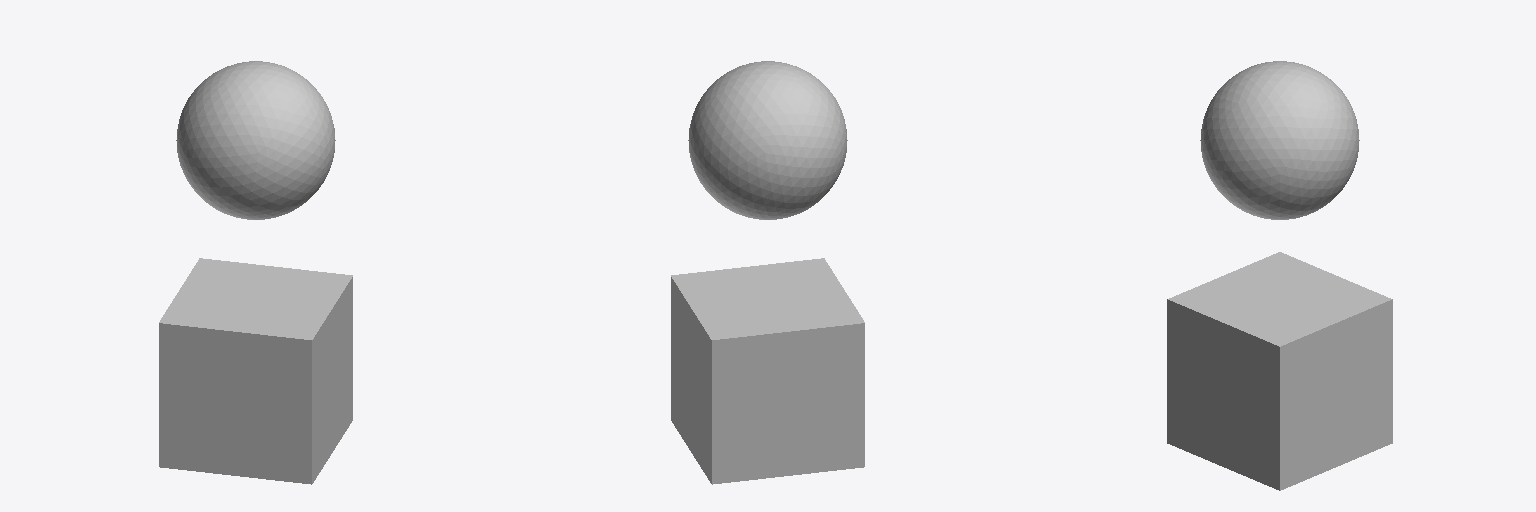
File: cube[0.4,0,0] sphere[-0.4,0,0]_rotY90_cubeRotZ45.obj
3 renders of one model, left to right at view 1: azimuth 30°, elevation 25°; view 2: azimuth 150°, elevation 25°; view 3: azimuth 270°, elevation 25°, orthographic.
Visible parts, largest first — view 1: Cube.001_Cube.004, Icosphere.004; view 2: Cube.001_Cube.004, Icosphere.004; view 3: Cube.001_Cube.004, Icosphere.004.
Boxes of the visible parts, <box> form: Cube.001_Cube.004: <box>159,258,352,484</box>; Icosphere.004: <box>176,61,335,219</box>; Cube.001_Cube.004: <box>671,258,864,484</box>; Icosphere.004: <box>688,61,847,219</box>; Cube.001_Cube.004: <box>1167,252,1392,490</box>; Icosphere.004: <box>1200,61,1359,219</box>.
Bounding box in the file's own units: 0.7071 × 1.3 × 0.7071.